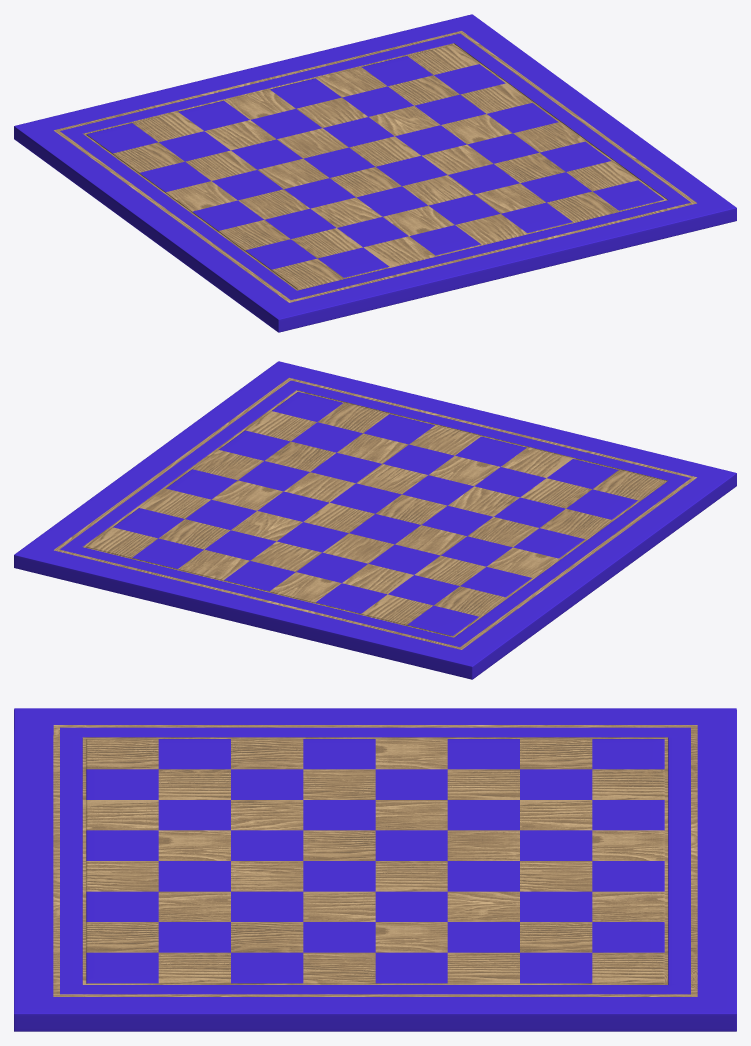
Rendered from SChachbrett holz klassisch 2 für baking 2.fbx.
3 renders of one model, top to bottom at view 1: azimuth 30°, elevation 25°; view 2: azimuth 150°, elevation 25°; view 3: azimuth 270°, elevation 25°, orthographic. The views are drawn at different scales.
Visible parts, largest first — view 1: Plane; view 2: Plane; view 3: Plane.
Boxes of the visible parts, x1=… form: Plane: x1=14, y1=14, x2=736, y2=332; Plane: x1=14, y1=361, x2=736, y2=679; Plane: x1=14, y1=708, x2=736, y2=1031.
Bounding box in the file's own units: 200 × 5.69 × 200.
